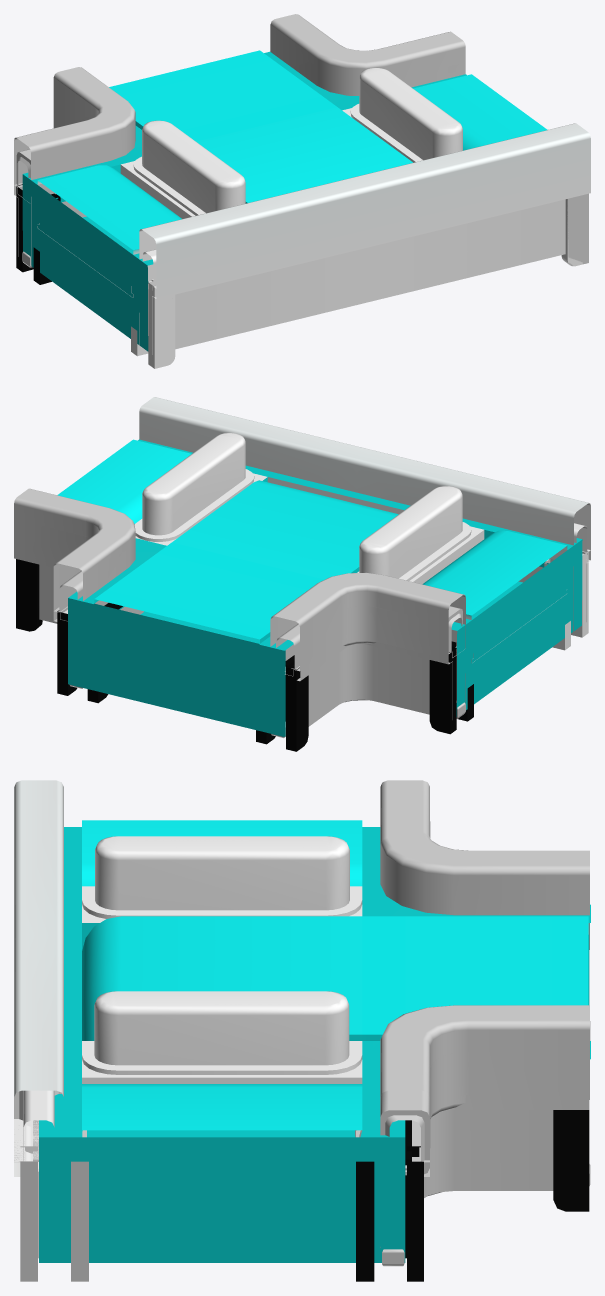
File: MergerTShapeInternalVariant.gltf
3 views of the same model, one above another, from view 1: azimuth 30°, elevation 25°; view 2: azimuth 150°, elevation 25°; view 3: azimuth 270°, elevation 25° (orthographic). The views are drawn at different scales.
Visible parts, largest first — view 1: Merger_TBorder_Layer0_LOD0.001, Merger_2to1T_Belt_LOD0, Merger_DefaultBorder_Layer0_LOD0.001, Merger_DefaultBorder_Layer1_LOD0.001, Merger_Default_Stopper_LOD0.010, Merger_Default_Stopper_LOD0.006, Merger_TBorder_Layer1_LOD0.001, Merger_DefaultBorder_Layer2_LOD0.001; view 2: Merger_2to1T_Belt_LOD0, Merger_DefaultBorder_Layer0_LOD0.001, Merger_DefaultBorder_Layer1_LOD0.001, Merger_TBorder_Layer0_LOD0.001, Merger_DefaultBorder_Layer2_LOD0.001, Merger_Default_Stopper_LOD0.006, Merger_Default_Stopper_LOD0.010, Merger_TBorder_Layer1_LOD0.001; view 3: Merger_DefaultBorder_Layer0_LOD0.001, Merger_2to1T_Belt_LOD0, Merger_DefaultBorder_Layer1_LOD0.001, Merger_Default_Stopper_LOD0.006, Merger_Default_Stopper_LOD0.010, Merger_TBorder_Layer0_LOD0.001, Merger_DefaultBorder_Layer2_LOD0.001, Merger_TBorder_Layer2_LOD0.001, Merger_TBorder_Layer1_LOD0.001.
Part boxes in pixels (box(x1,y1,x2,y2)): Merger_TBorder_Layer0_LOD0.001: box(139, 123, 590, 354); Merger_2to1T_Belt_LOD0: box(37, 50, 547, 254); Merger_DefaultBorder_Layer0_LOD0.001: box(14, 14, 466, 351); Merger_DefaultBorder_Layer1_LOD0.001: box(14, 14, 588, 337); Merger_Default_Stopper_LOD0.010: box(142, 120, 245, 213); Merger_Default_Stopper_LOD0.006: box(359, 67, 462, 160); Merger_TBorder_Layer1_LOD0.001: box(131, 209, 582, 368); Merger_DefaultBorder_Layer2_LOD0.001: box(16, 53, 462, 297); Merger_2to1T_Belt_LOD0: box(57, 439, 567, 643); Merger_DefaultBorder_Layer0_LOD0.001: box(14, 439, 582, 736); Merger_DefaultBorder_Layer1_LOD0.001: box(16, 441, 590, 751); Merger_TBorder_Layer0_LOD0.001: box(139, 397, 590, 631); Merger_DefaultBorder_Layer2_LOD0.001: box(31, 443, 566, 671); Merger_Default_Stopper_LOD0.006: box(142, 433, 245, 535); Merger_Default_Stopper_LOD0.010: box(359, 486, 462, 578); Merger_TBorder_Layer1_LOD0.001: box(546, 503, 590, 649); Merger_DefaultBorder_Layer0_LOD0.001: box(39, 780, 589, 1262); Merger_2to1T_Belt_LOD0: box(82, 820, 588, 1130); Merger_DefaultBorder_Layer1_LOD0.001: box(14, 780, 590, 1281); Merger_Default_Stopper_LOD0.006: box(94, 991, 349, 1065); Merger_Default_Stopper_LOD0.010: box(95, 836, 349, 910); Merger_TBorder_Layer0_LOD0.001: box(14, 780, 63, 1176); Merger_DefaultBorder_Layer2_LOD0.001: box(39, 828, 589, 1175); Merger_TBorder_Layer2_LOD0.001: box(14, 1090, 62, 1168); Merger_TBorder_Layer1_LOD0.001: box(14, 1119, 38, 1258).
Bounding box in the file's own units: 1 × 0.3093 × 0.7874.
